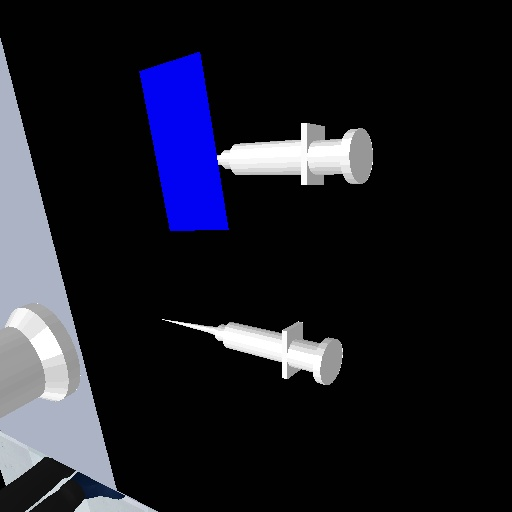jeringuilla: (158, 307, 350, 390), (214, 116, 376, 190)
